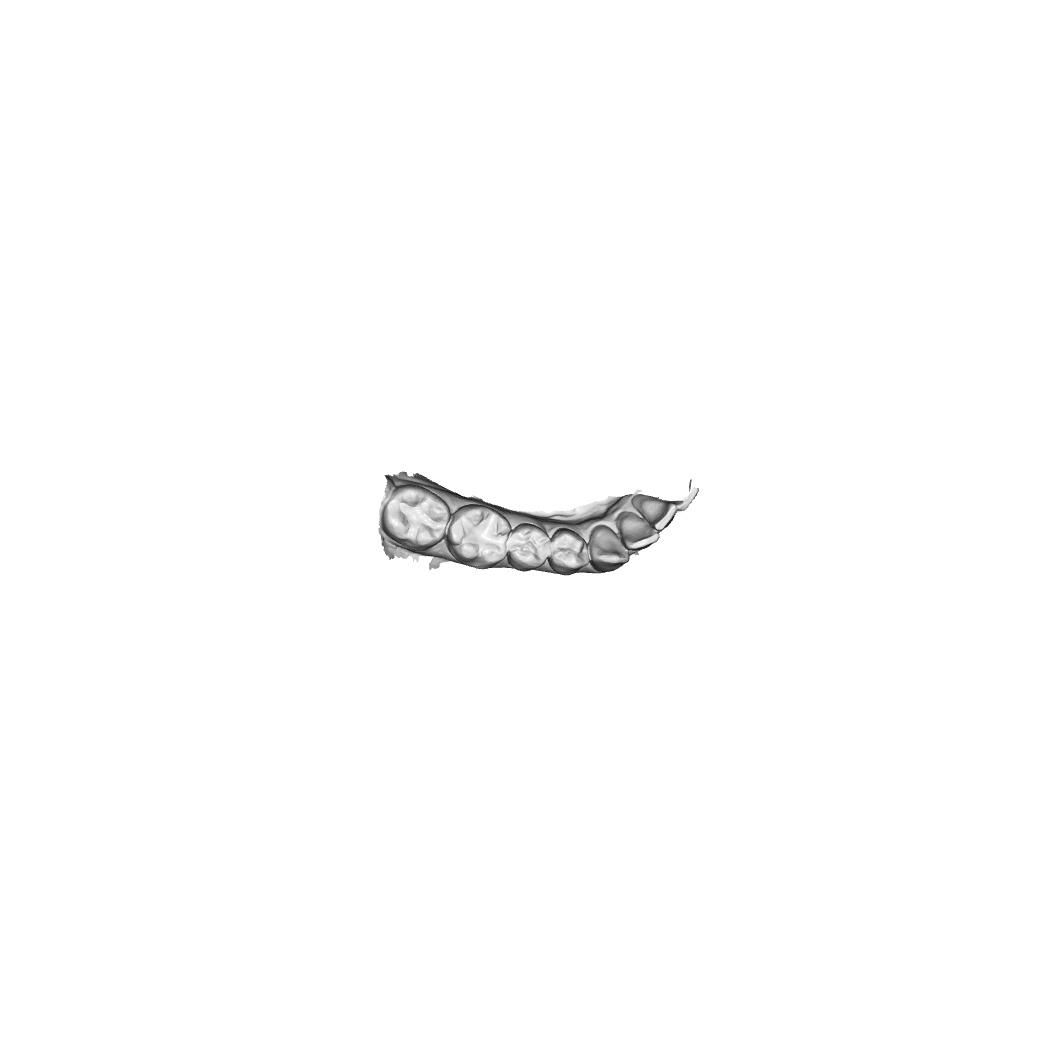canine: (587, 523, 631, 574)
incisor: (617, 510, 661, 552), (637, 497, 680, 533)
molar: (381, 482, 451, 551), (446, 503, 512, 569)
premolar: (507, 521, 551, 572), (548, 526, 590, 576)
